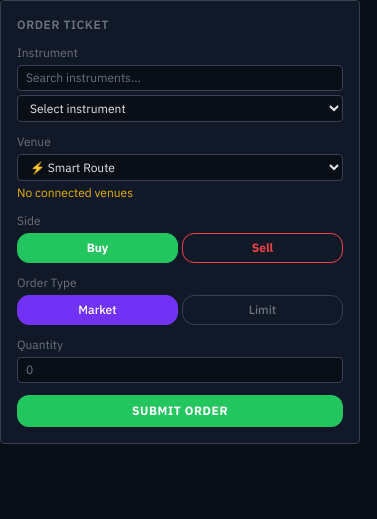
Test case: OrderTicket › shows price field for limit orders
Click the button "Limit" at (262, 310), box [182,295,343,325]
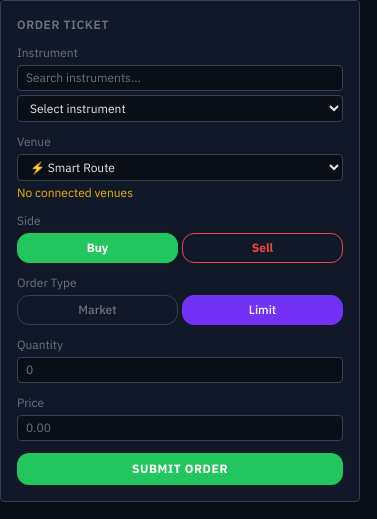
Now the number field labelled "Price" is shown, box [17,415,343,441]
